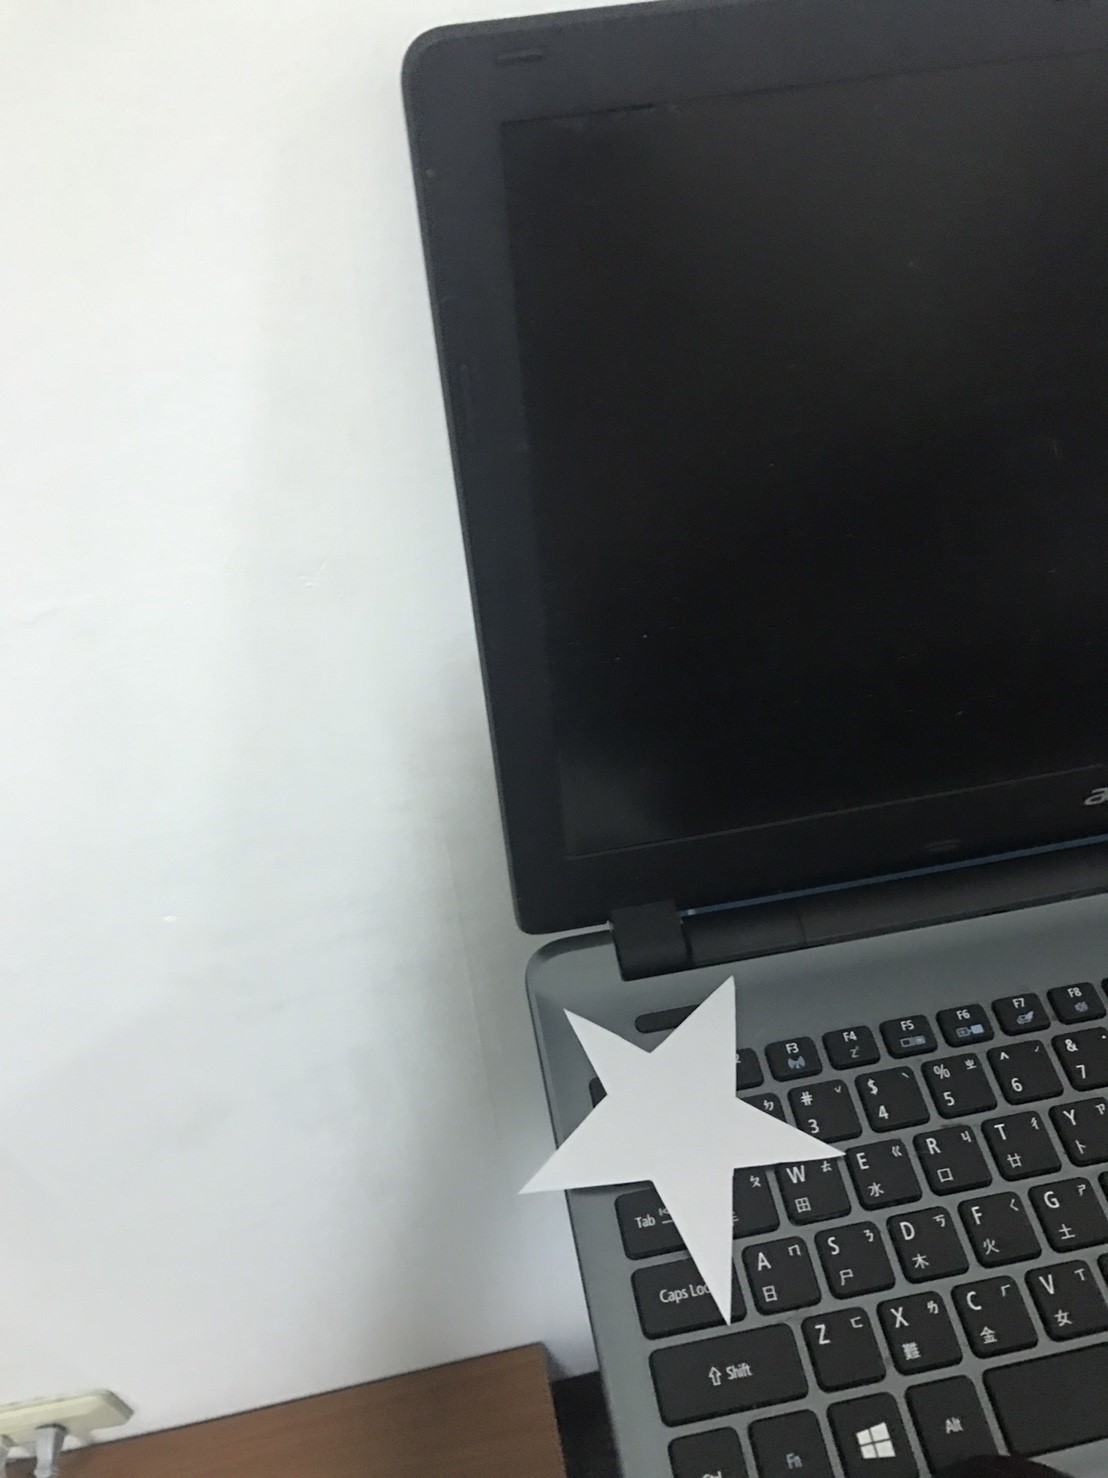star: (482, 966, 853, 1331)
